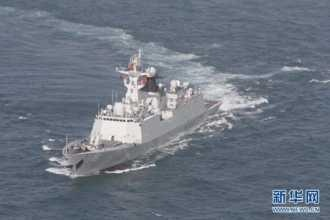warship: (61, 47, 216, 175)
